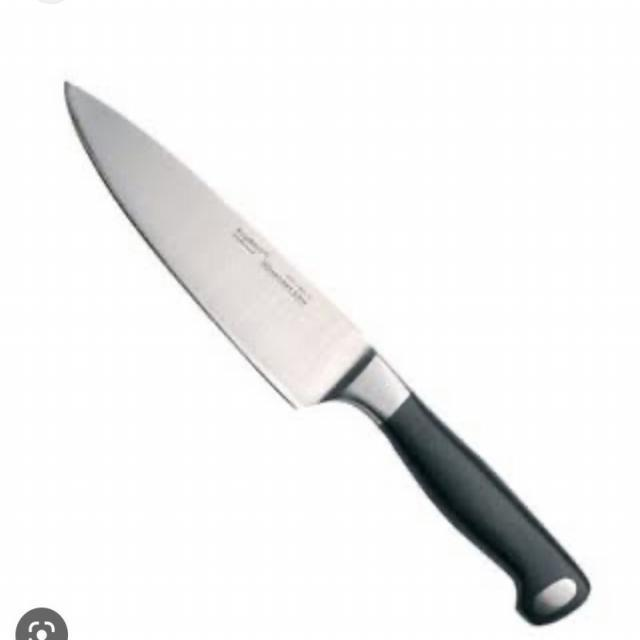Knife: (59, 70, 602, 620)
